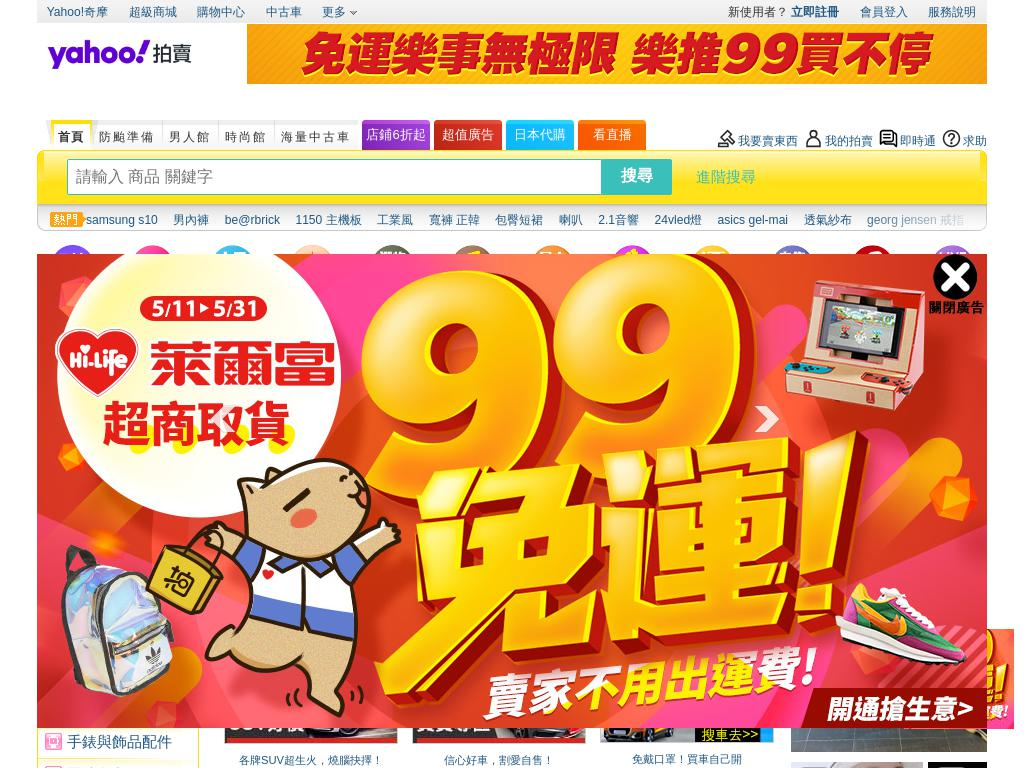button: (791, 404, 987, 704), (224, 582, 398, 647), (412, 582, 586, 647), (600, 582, 774, 647), (224, 679, 398, 744), (412, 679, 586, 744), (600, 679, 774, 743), (47, 34, 198, 75), (32, 243, 112, 309), (112, 243, 192, 309), (192, 243, 272, 309), (272, 243, 352, 309), (352, 243, 432, 309), (432, 243, 512, 309), (512, 243, 592, 309), (592, 243, 672, 309), (672, 243, 752, 309), (752, 243, 832, 309), (832, 243, 912, 309), (912, 243, 992, 309), (44, 559, 198, 593), (44, 592, 198, 626), (44, 625, 198, 659), (44, 658, 198, 692), (44, 691, 198, 725), (44, 724, 198, 758), (925, 254, 985, 320), (276, 119, 355, 150), (94, 119, 164, 150), (359, 119, 427, 150), (431, 119, 499, 150), (503, 119, 571, 150), (575, 119, 643, 150), (711, 128, 798, 148), (164, 119, 220, 150), (220, 119, 276, 150), (44, 757, 198, 768), (798, 128, 873, 148), (913, 377, 975, 401), (52, 119, 94, 150), (873, 128, 936, 148), (696, 167, 756, 186), (936, 128, 987, 148), (791, 761, 929, 768), (210, 403, 241, 434), (750, 403, 781, 434), (151, 532, 185, 554), (928, 761, 1024, 768), (322, 5, 359, 19), (634, 508, 647, 522), (651, 508, 664, 522), (668, 508, 681, 522), (685, 508, 698, 522), (702, 508, 715, 522), (719, 508, 732, 522), (736, 508, 749, 522), (753, 508, 766, 522)
field: (67, 158, 602, 195), (602, 158, 672, 195)
heading: (0, 0, 1024, 768), (37, 24, 988, 87), (219, 538, 339, 567), (238, 753, 383, 766), (250, 656, 372, 669), (440, 656, 557, 669), (444, 753, 554, 766), (632, 752, 742, 765), (635, 656, 738, 669), (800, 382, 861, 401), (46, 537, 106, 556)
image: (37, 254, 987, 728), (215, 318, 776, 529), (775, 318, 1024, 529), (0, 318, 216, 529), (247, 24, 987, 84), (37, 318, 199, 529), (904, 629, 1014, 729), (224, 582, 396, 645), (412, 582, 584, 645), (600, 582, 772, 645), (224, 679, 396, 742), (412, 679, 584, 742), (600, 679, 772, 741), (791, 318, 988, 364), (925, 254, 985, 314), (276, 119, 355, 151), (49, 243, 95, 289), (129, 243, 175, 289), (209, 243, 255, 289), (289, 243, 335, 289), (369, 243, 415, 289), (449, 243, 495, 289), (529, 243, 575, 289), (609, 243, 655, 289), (689, 243, 735, 289), (769, 243, 815, 289), (849, 243, 895, 289), (929, 243, 975, 289), (791, 761, 923, 768), (928, 761, 1024, 768), (50, 211, 86, 227), (37, 149, 44, 181), (980, 149, 987, 181), (37, 203, 44, 231), (980, 203, 987, 231), (355, 119, 361, 151)
link: (32, 288, 112, 309), (112, 288, 192, 309), (192, 288, 272, 309), (272, 288, 352, 309), (352, 288, 432, 309), (432, 288, 512, 309), (512, 288, 592, 309), (592, 288, 672, 309), (672, 288, 752, 309), (752, 288, 832, 309), (832, 288, 912, 309), (912, 288, 992, 309), (866, 212, 964, 227), (101, 226, 176, 241), (86, 212, 158, 227), (717, 212, 788, 227), (295, 212, 363, 227), (334, 226, 395, 241), (261, 226, 320, 241), (46, 5, 108, 19), (224, 212, 280, 227), (190, 226, 246, 241), (428, 212, 480, 227), (495, 212, 544, 227), (803, 212, 852, 227), (410, 226, 459, 241), (473, 226, 522, 241), (654, 212, 702, 227), (791, 5, 840, 19), (859, 5, 908, 19), (928, 5, 977, 19), (128, 5, 177, 19), (197, 5, 246, 19), (598, 212, 640, 227), (173, 212, 210, 227), (377, 212, 414, 227), (50, 226, 86, 241), (265, 5, 302, 19), (558, 212, 583, 227)
text: (275, 119, 354, 150), (94, 119, 164, 150), (164, 119, 220, 150), (220, 119, 276, 150), (52, 119, 94, 150), (727, 5, 791, 19), (796, 767, 834, 768), (933, 767, 971, 768)
